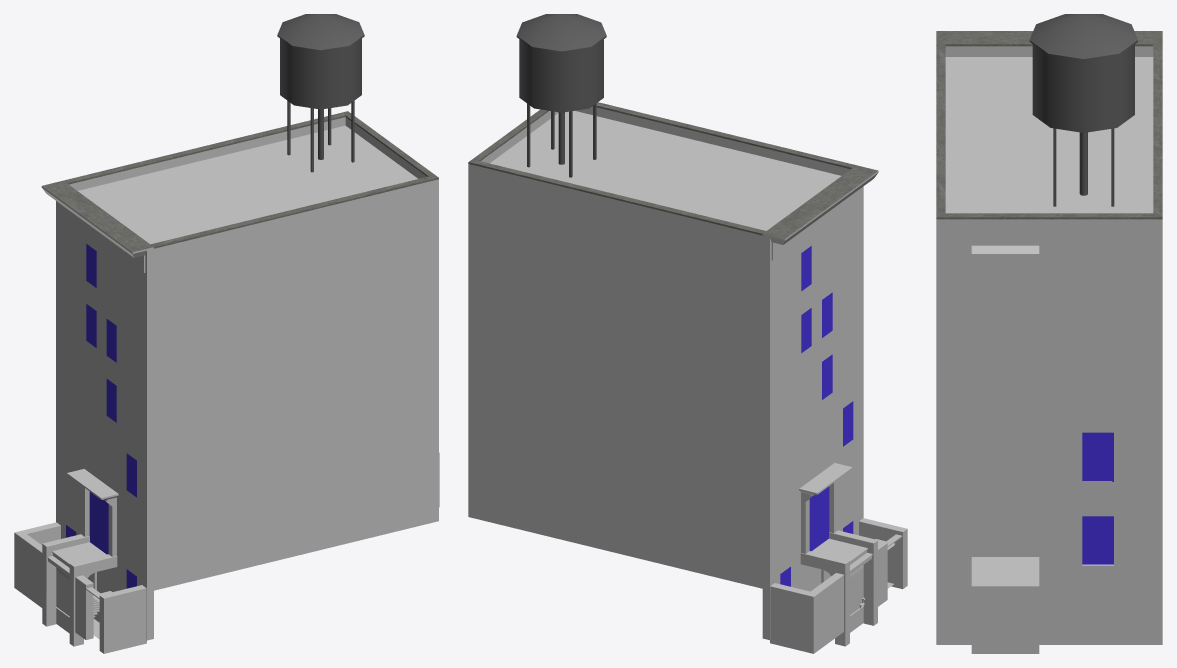
The model's file is mcp_building_16_LOD_1.FBX.
3 renders of one model, left to right at view 1: azimuth 30°, elevation 25°; view 2: azimuth 150°, elevation 25°; view 3: azimuth 270°, elevation 25°, orthographic. The views are drawn at different scales.
Visible parts, largest first — view 1: mcp_building_16_walls, mcp_building_16_roof, mcp_building_16, mcp_building_16_concrete_02, mcp_building_16_props_03, mcp_building_16_concrete_03; view 2: mcp_building_16_walls, mcp_building_16_roof, mcp_building_16, mcp_building_16_concrete_02, mcp_building_16_props_03, mcp_building_16_concrete_03; view 3: mcp_building_16_walls, mcp_building_16_roof, mcp_building_16_props_03, mcp_building_16, mcp_building_16_concrete_03.
Boxes of the visible parts, x1,y1,x2,y2 form: mcp_building_16_walls: [56, 117, 439, 640]; mcp_building_16_roof: [78, 125, 417, 244]; mcp_building_16: [41, 180, 153, 593]; mcp_building_16_concrete_02: [14, 522, 146, 653]; mcp_building_16_props_03: [277, 14, 364, 172]; mcp_building_16_concrete_03: [63, 111, 438, 248]; mcp_building_16_walls: [468, 106, 863, 640]; mcp_building_16_roof: [490, 110, 840, 230]; mcp_building_16: [762, 165, 878, 591]; mcp_building_16_concrete_02: [770, 518, 907, 653]; mcp_building_16_props_03: [516, 14, 606, 177]; mcp_building_16_concrete_03: [468, 102, 855, 235]; mcp_building_16_walls: [936, 46, 1162, 653]; mcp_building_16_roof: [945, 57, 1153, 213]; mcp_building_16_props_03: [1029, 14, 1137, 206]; mcp_building_16: [936, 31, 1162, 564]; mcp_building_16_concrete_03: [936, 44, 1162, 219].
Bounding box in the file's own units: 2222 × 3288 × 998.
